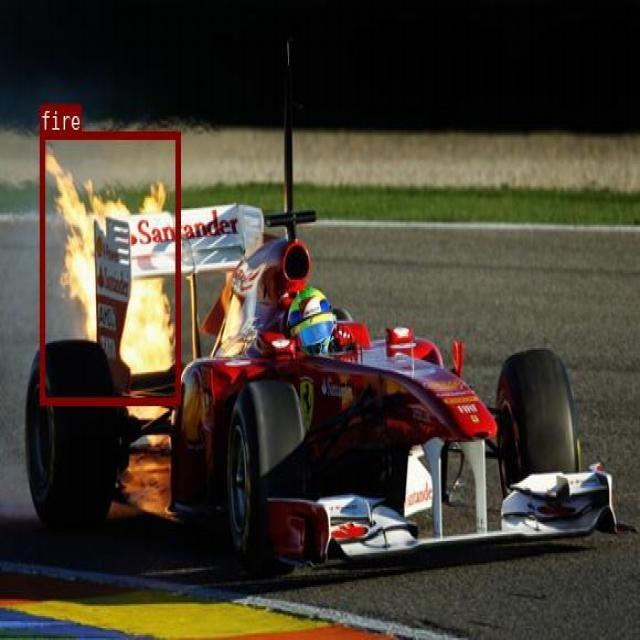fire: (40, 131, 179, 404)
